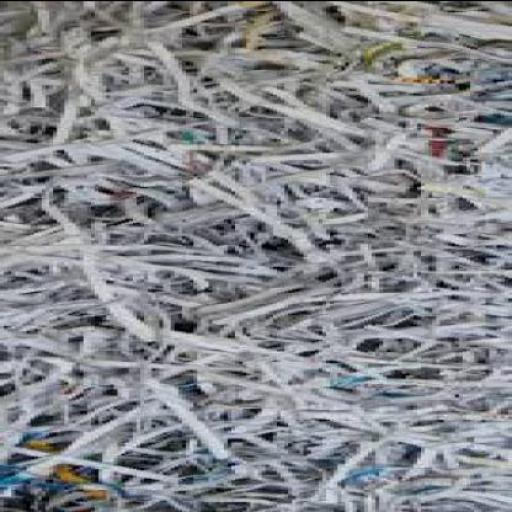paper: (0, 1, 510, 511)
